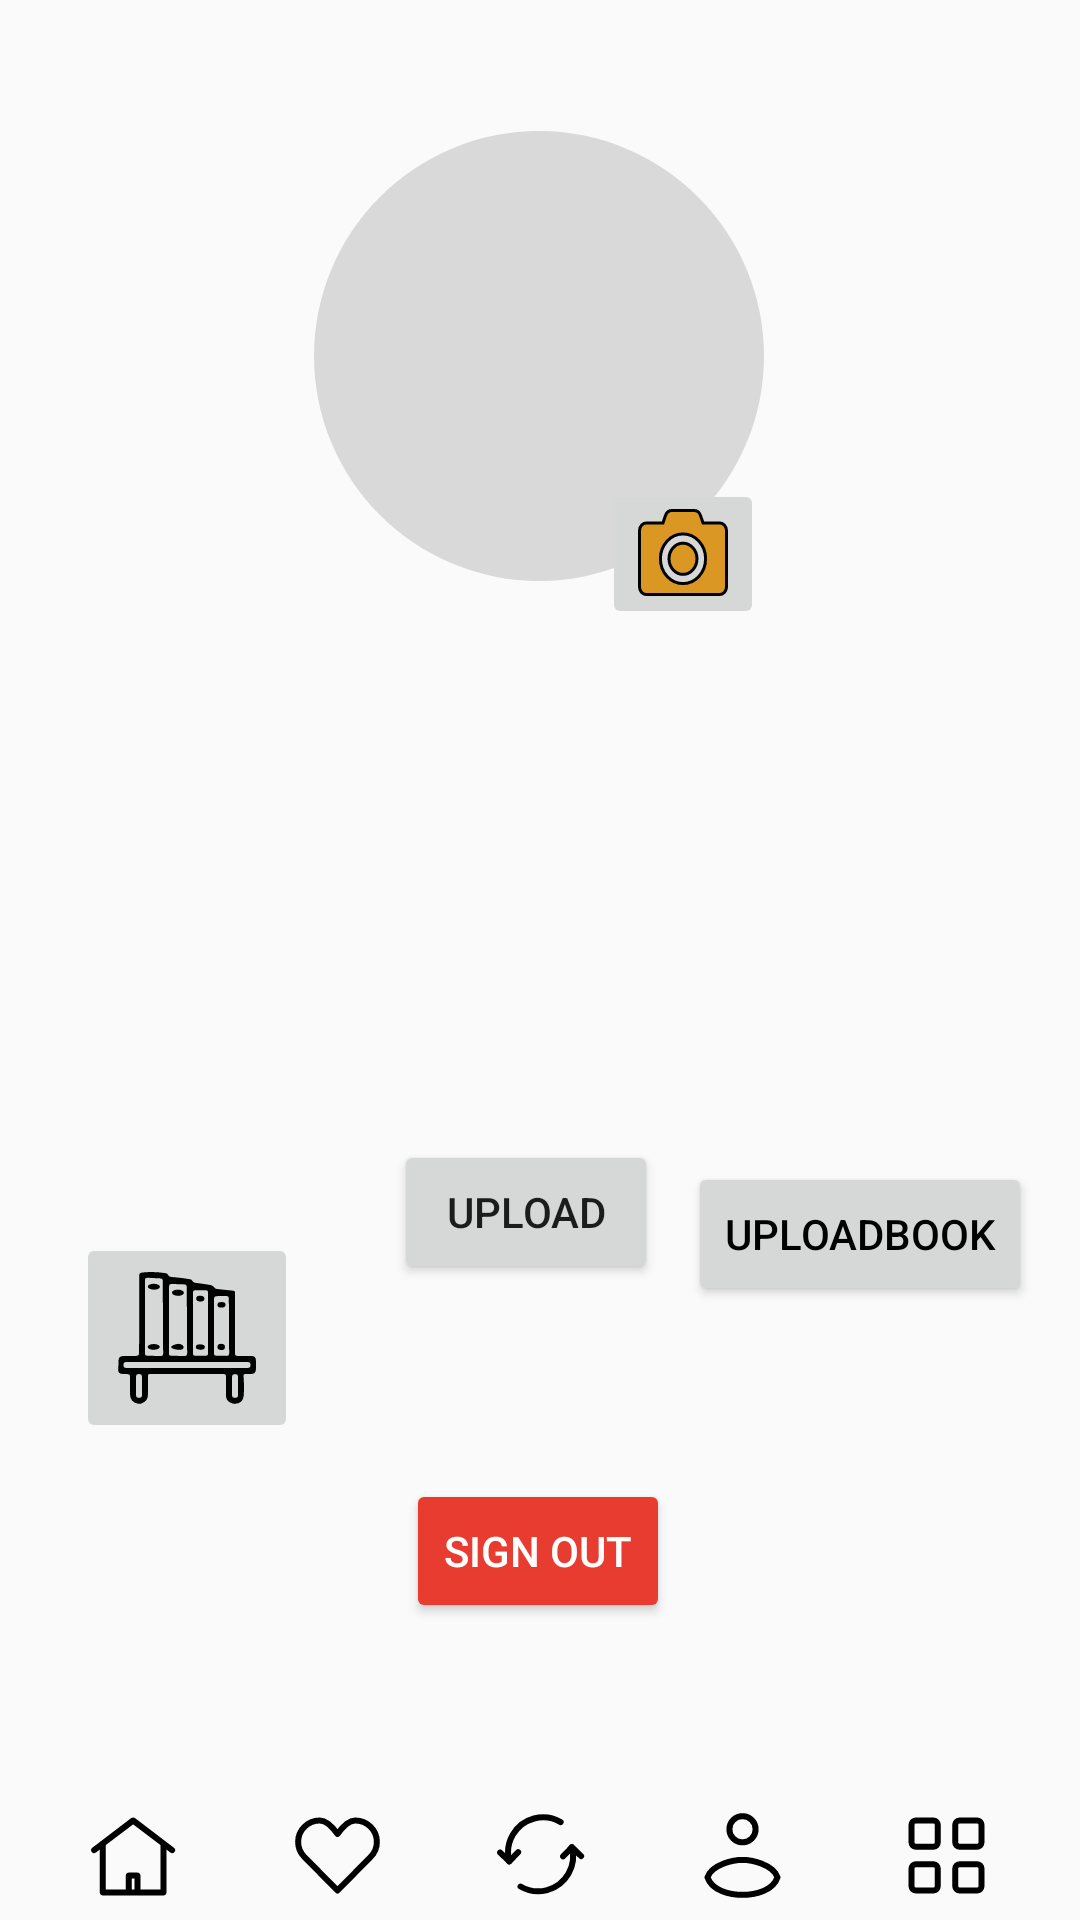

Icons on this 1080×1920 Android screen, each with its box as bbox(x1, y1, x2, y2):
bookshelf: bbox(88, 1251, 286, 1425)
favorite: bbox(295, 1817, 380, 1894)
home: bbox(91, 1817, 176, 1896)
menu: bbox(908, 1817, 985, 1894)
swap: bbox(497, 1814, 585, 1895)
user: bbox(704, 1813, 781, 1898)
